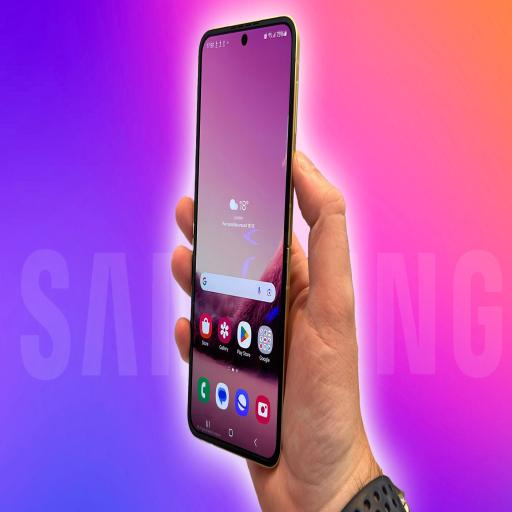phone: (186, 21, 295, 471)
